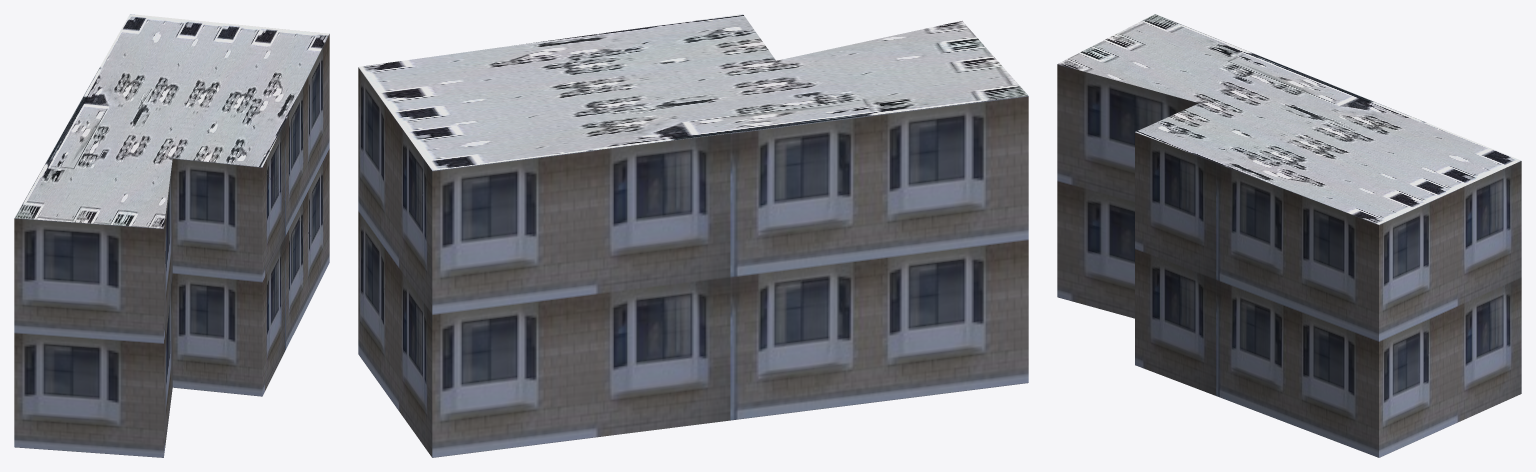
File: ResTex__3145.fbx
3 views of the same model, side by side, from view 1: azimuth 30°, elevation 25°; view 2: azimuth 150°, elevation 25°; view 3: azimuth 270°, elevation 25° (orthographic). The views are drawn at different scales.
Visible parts, largest first — view 1: CityEngineMaterial_3_m, CityEngineMaterial_2_m; view 2: CityEngineMaterial_3_m, CityEngineMaterial_2_m; view 3: CityEngineMaterial_3_m, CityEngineMaterial_2_m.
Boxes of the visible parts, bbox=[...] form: CityEngineMaterial_3_m: bbox=[14, 34, 329, 457]; CityEngineMaterial_2_m: bbox=[14, 14, 328, 228]; CityEngineMaterial_3_m: bbox=[358, 67, 1028, 457]; CityEngineMaterial_2_m: bbox=[358, 14, 1028, 170]; CityEngineMaterial_3_m: bbox=[1057, 64, 1521, 457]; CityEngineMaterial_2_m: bbox=[1057, 14, 1521, 224].
Bounding box in the file's own units: 11.64 × 6 × 10.84.
Materials: 2 (2 with a texture image).
